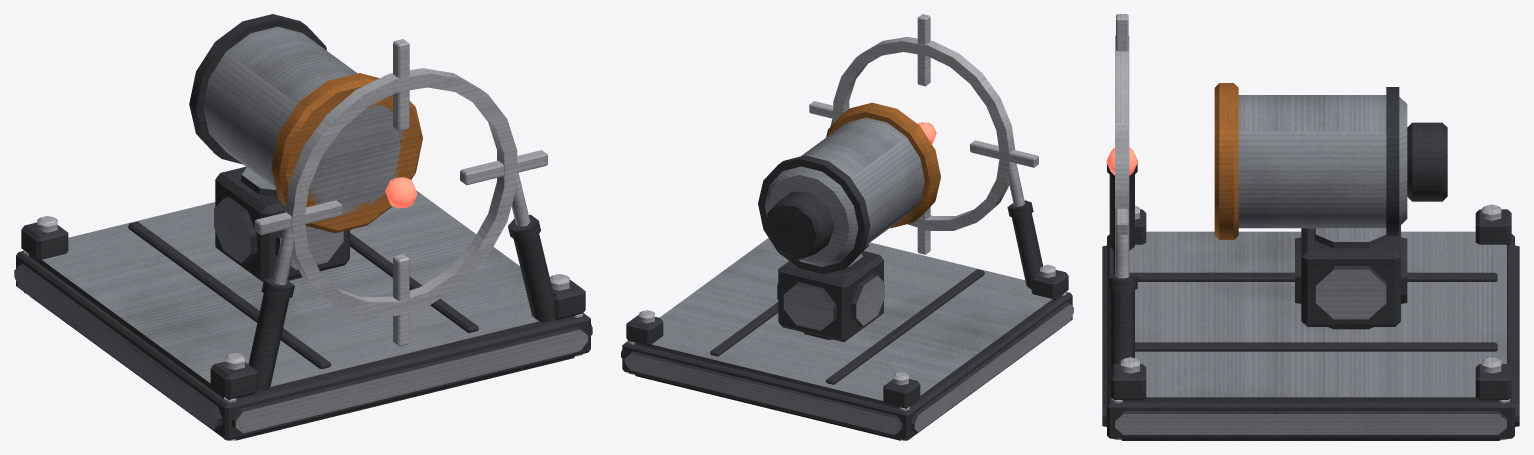
Rendered from R4X_WeakPointScanner.glb.
3 views of the same model, side by side, from view 1: azimuth 30°, elevation 25°; view 2: azimuth 150°, elevation 25°; view 3: azimuth 270°, elevation 25° (orthographic). The views are drawn at different scales.
Parts seen in each view (by area): view 1: R4X_WeakPointScanner_Body; view 2: R4X_WeakPointScanner_Body; view 3: R4X_WeakPointScanner_Body.
Boxes of the visible parts, box(x1,y1,x2,y2) form: R4X_WeakPointScanner_Body: box(14, 14, 592, 440); R4X_WeakPointScanner_Body: box(621, 14, 1073, 440); R4X_WeakPointScanner_Body: box(1102, 14, 1519, 440).
Bounding box in the file's own units: 0.52 × 0.47 × 0.52.
5 materials, 4 textured.
